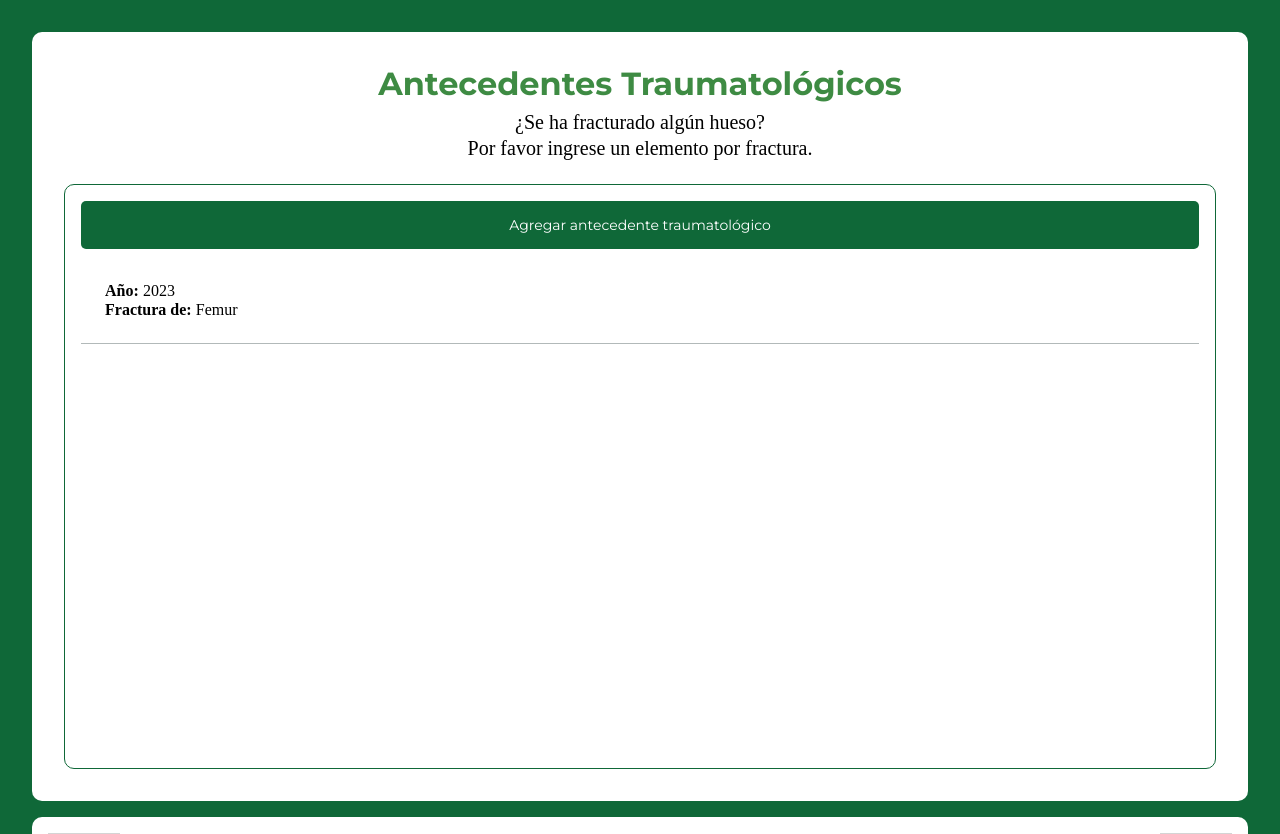
StudentTraumatologicalHistory Component Tests › opens new form on button click
This screenshot has width=1280, height=834.
Step 1. Click the button "Agregar antecedente traumatológico" → x=640, y=225, box 81,201 -> 1199,249
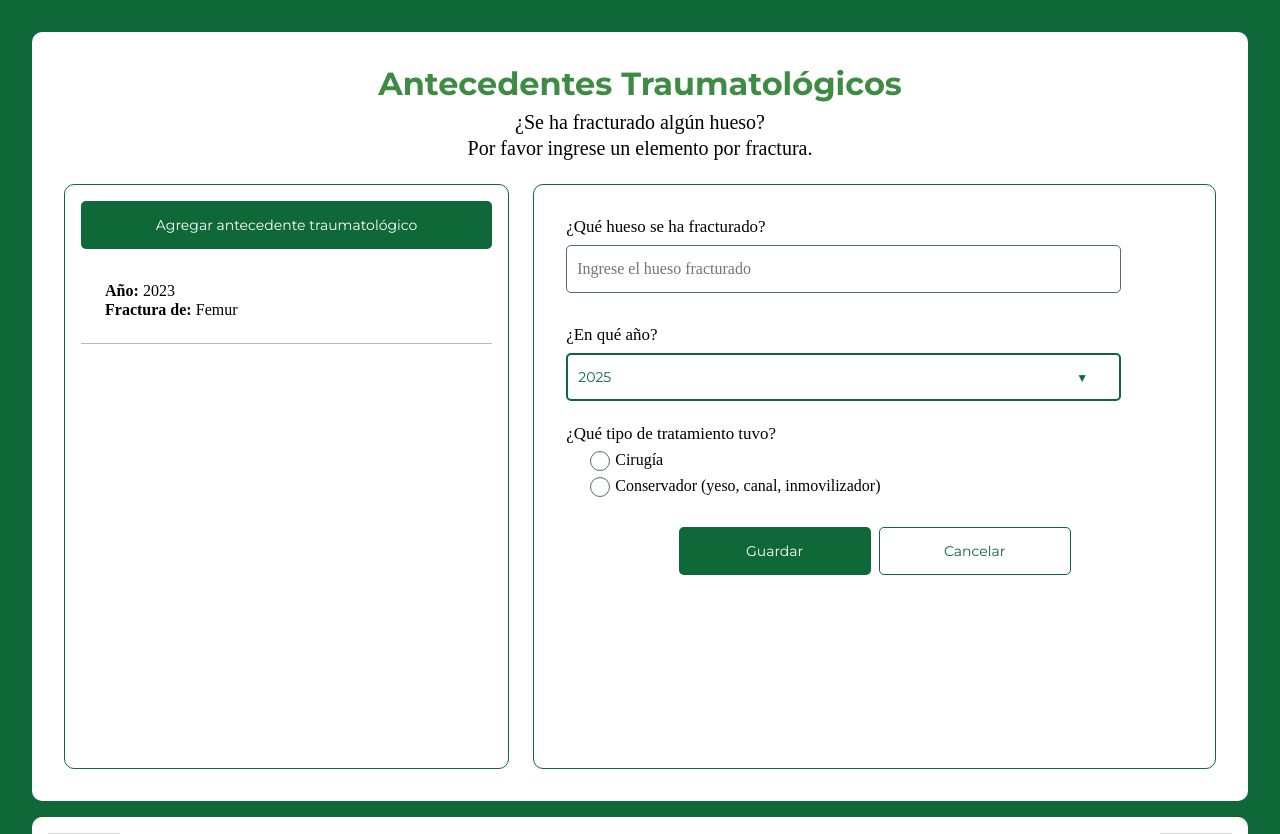
Expected: the text "Guardar" is shown, 746,542 -> 803,560
